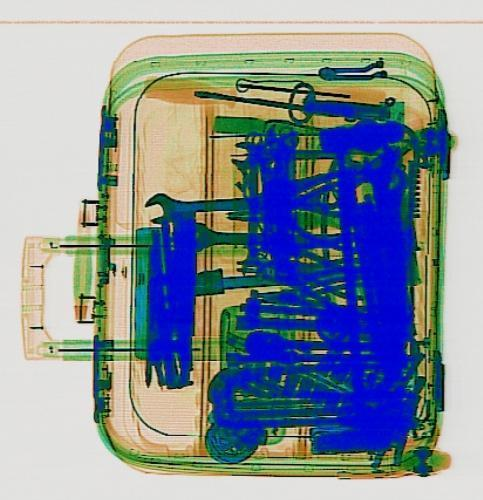Wrench: (141, 187, 257, 224), (231, 140, 333, 167)
